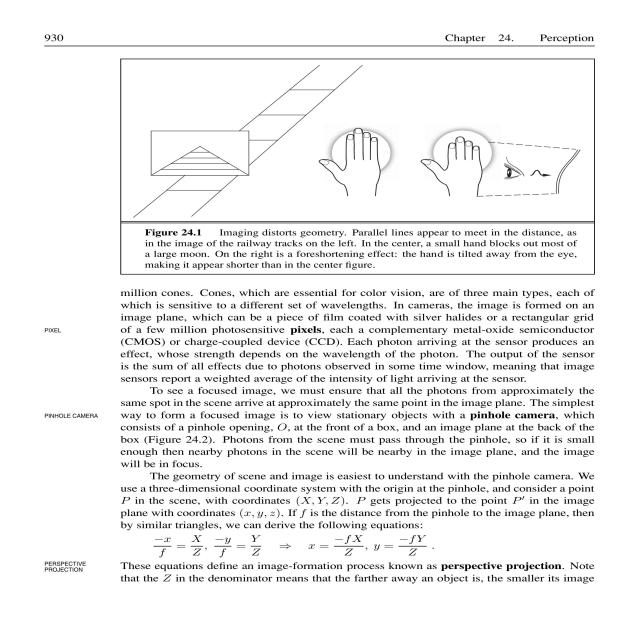diagram: (122, 56, 597, 274)
